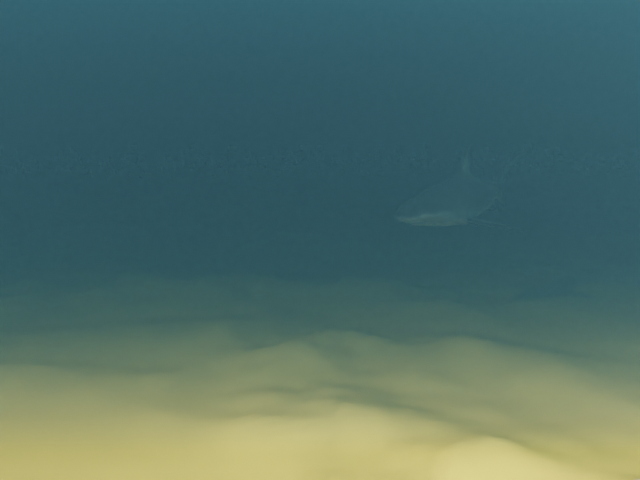Carribean Shark.001: (394, 145, 529, 231)
